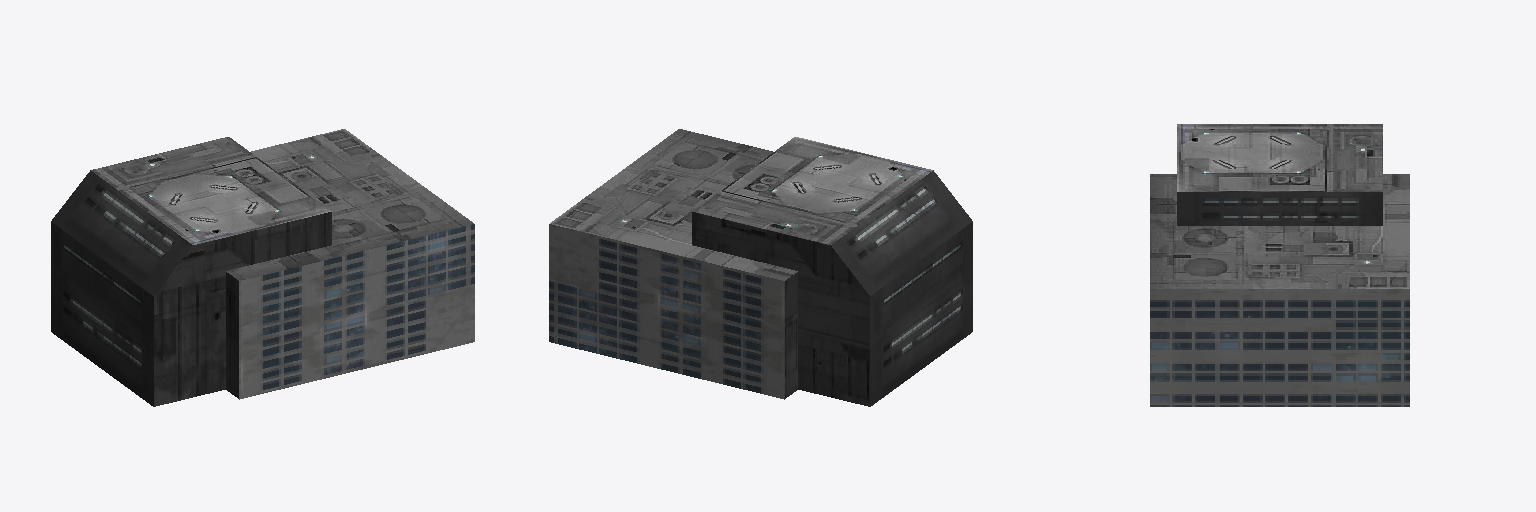
3 renders of one model, left to right at view 1: azimuth 30°, elevation 25°; view 2: azimuth 150°, elevation 25°; view 3: azimuth 270°, elevation 25°, orthographic.
Visible parts, largest first — view 1: building_32; view 2: building_32; view 3: building_32.
Part boxes in pixels (bbox=[...]): building_32: bbox=[51, 129, 474, 406]; building_32: bbox=[549, 129, 972, 406]; building_32: bbox=[1150, 124, 1409, 406].
Bounding box in the file's own units: 91.25 × 43.12 × 66.85.
1 materials, 1 textured.